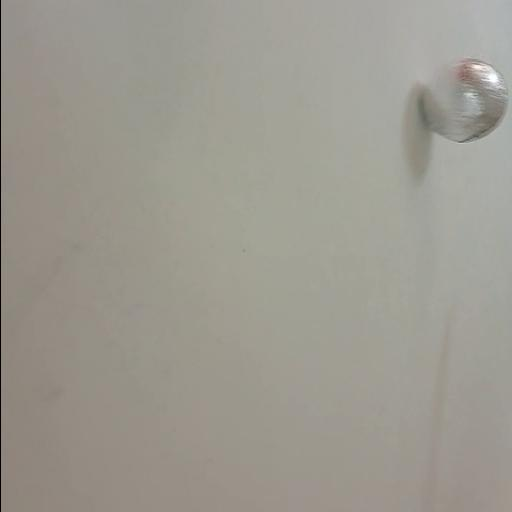alive: (416, 54, 510, 146)
